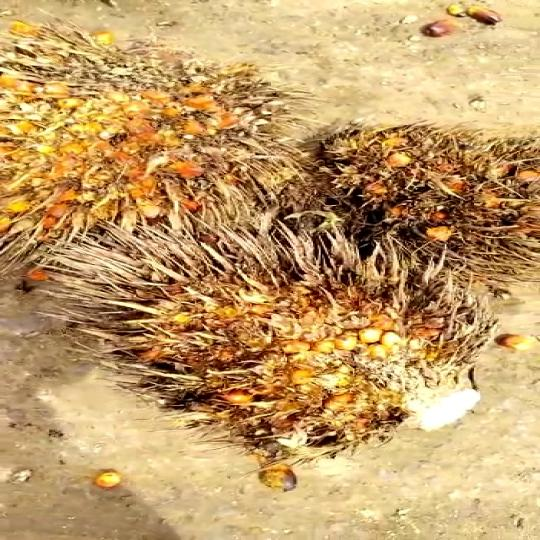terlalu masak: (57, 226, 498, 443), (312, 111, 540, 272)
